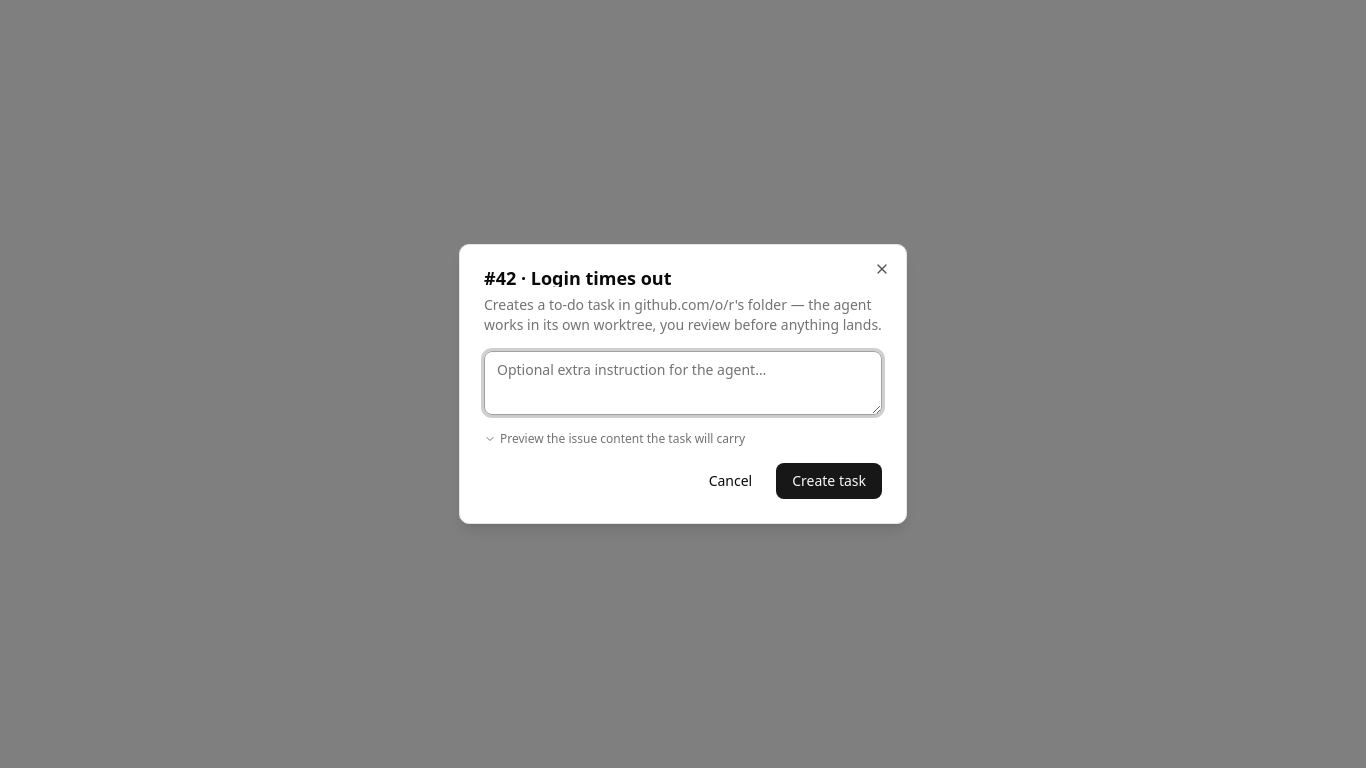
Test: ForgeStartDialog › survives a mismatch that could not name a remote at all
Click the button "Create task". click: point(829, 481)
box: [776,463,882,499]
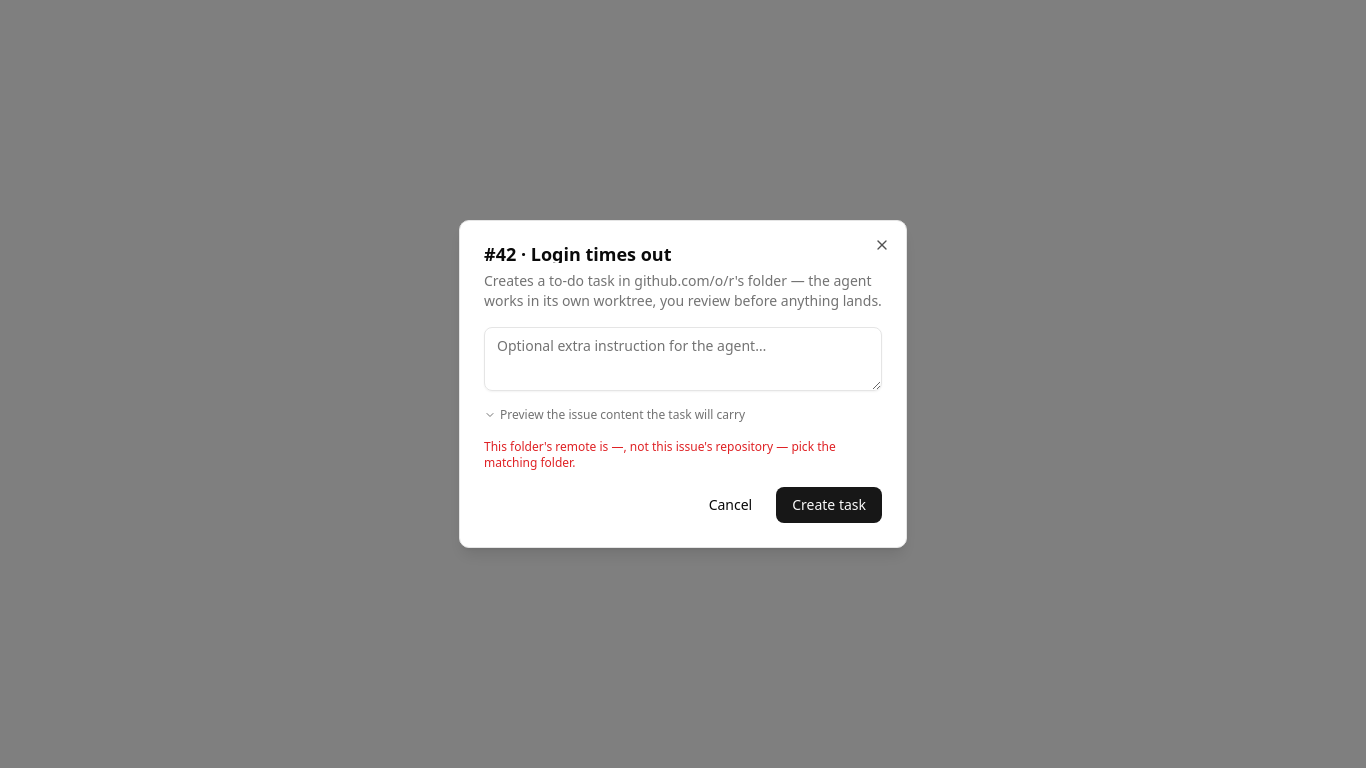
Result: the text "not this issue's repository" is shown at [484,438,836,471]
